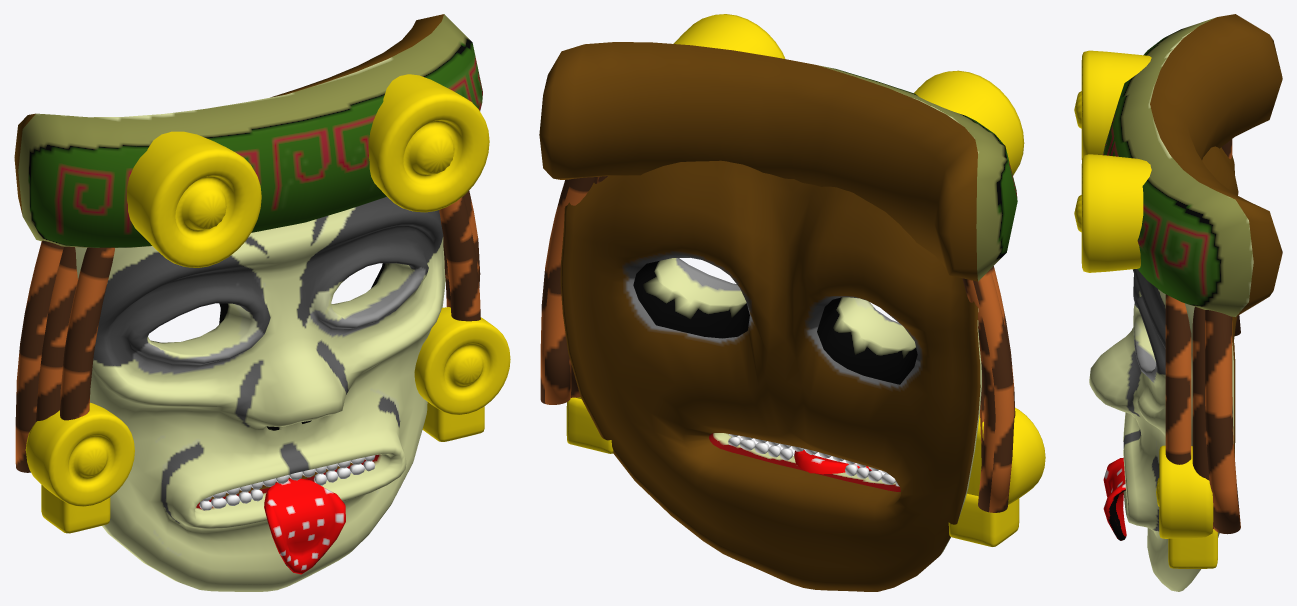
File: Mascara_Futuro.glb
The picture shows the model from 3 angles, left to right: view 1: azimuth 30°, elevation 25°; view 2: azimuth 150°, elevation 25°; view 3: azimuth 270°, elevation 25°; orthographic projection. The views are drawn at different scales.
Visible parts, largest first — view 1: Mascara_Futuro; view 2: Mascara_Futuro; view 3: Mascara_Futuro.
Part boxes in pixels (x1=…): Mascara_Futuro: x1=14, y1=14, x2=510, y2=591; Mascara_Futuro: x1=539, y1=14, x2=1045, y2=591; Mascara_Futuro: x1=1074, y1=14, x2=1282, y2=591.
Size of the model in its own units: 0.1867 by 0.194 by 0.0783.
Materials: 1 (1 with a texture image).
